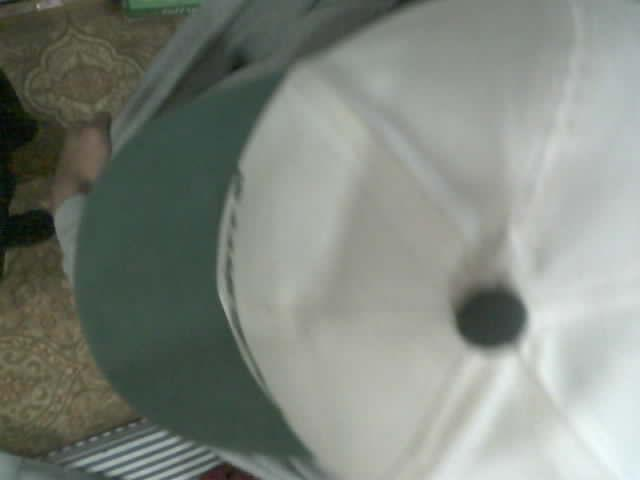cap: (69, 0, 639, 479)
